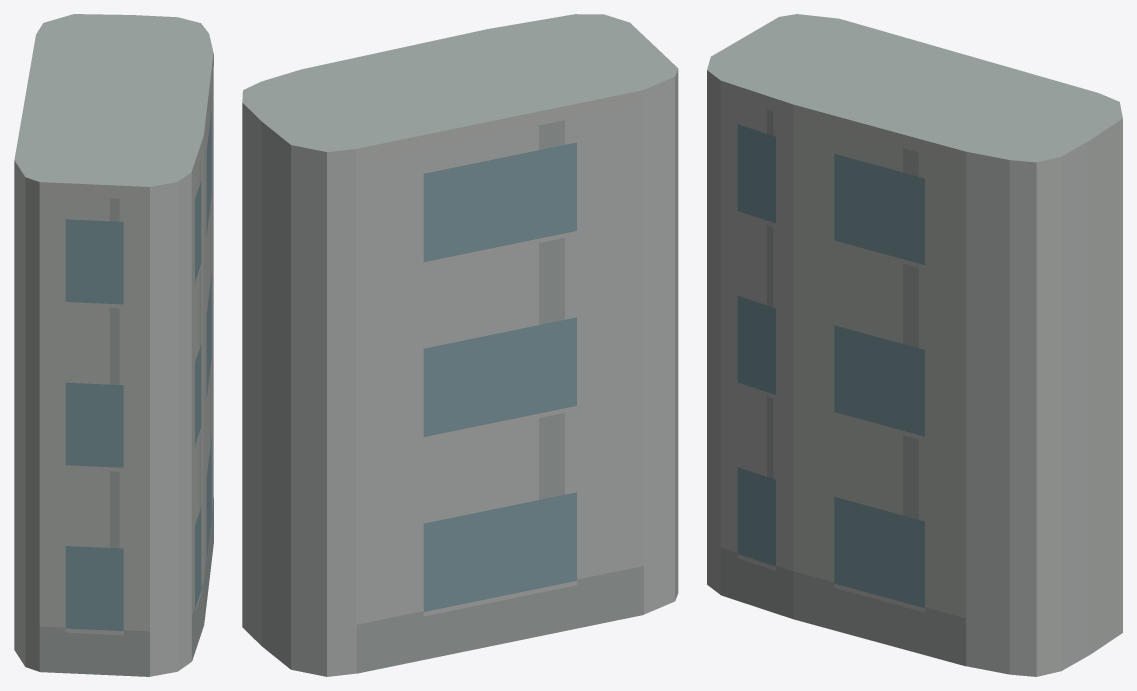
Rendered from survey-upis-32821677.glb.
3 renders of one model, left to right at view 1: azimuth 30°, elevation 25°; view 2: azimuth 150°, elevation 25°; view 3: azimuth 270°, elevation 25°, orthographic. The views are drawn at different scales.
Visible parts, largest first — view 1: survey-upis-32821677.tmp; view 2: survey-upis-32821677.tmp; view 3: survey-upis-32821677.tmp.
Boxes of the visible parts, x1,y1,x2,y2 form: survey-upis-32821677.tmp: (14, 14, 213, 676); survey-upis-32821677.tmp: (242, 14, 678, 676); survey-upis-32821677.tmp: (707, 14, 1122, 676).
Size of the model in its own units: 5.66 by 9.15 by 6.7.
